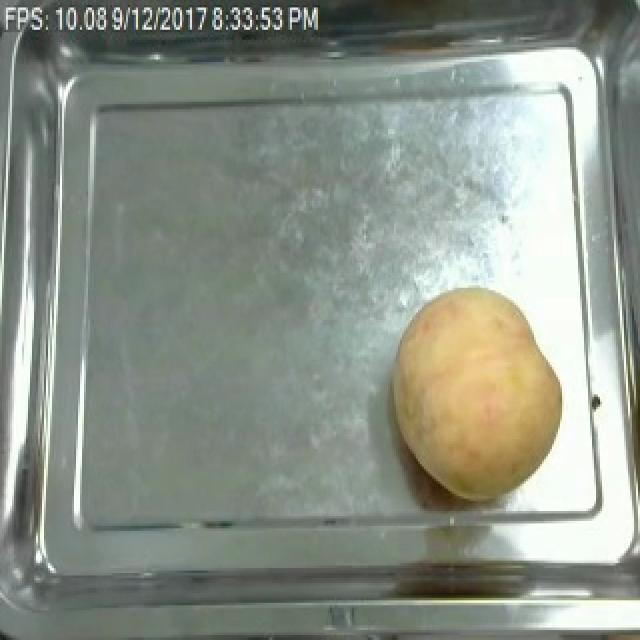Fruit: (384, 278, 574, 503)
